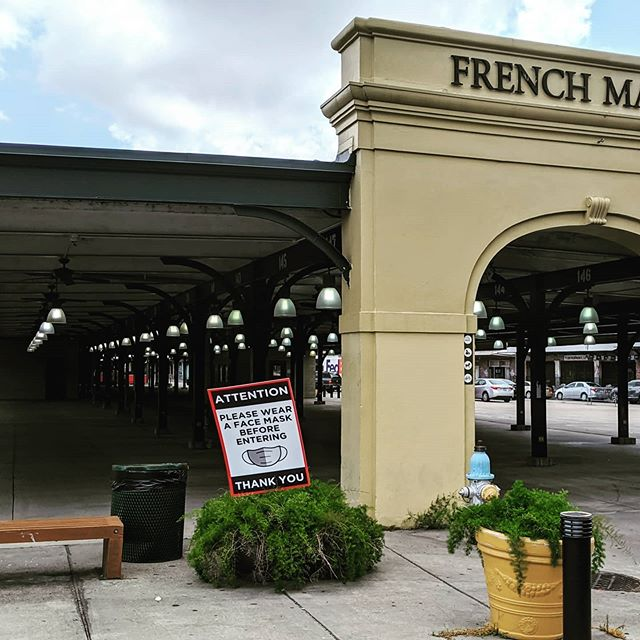bench: (1, 521, 132, 586)
building: (1, 53, 640, 519)
sign: (209, 376, 313, 495)
sky: (1, 1, 324, 153)
trash can: (103, 454, 192, 575)
